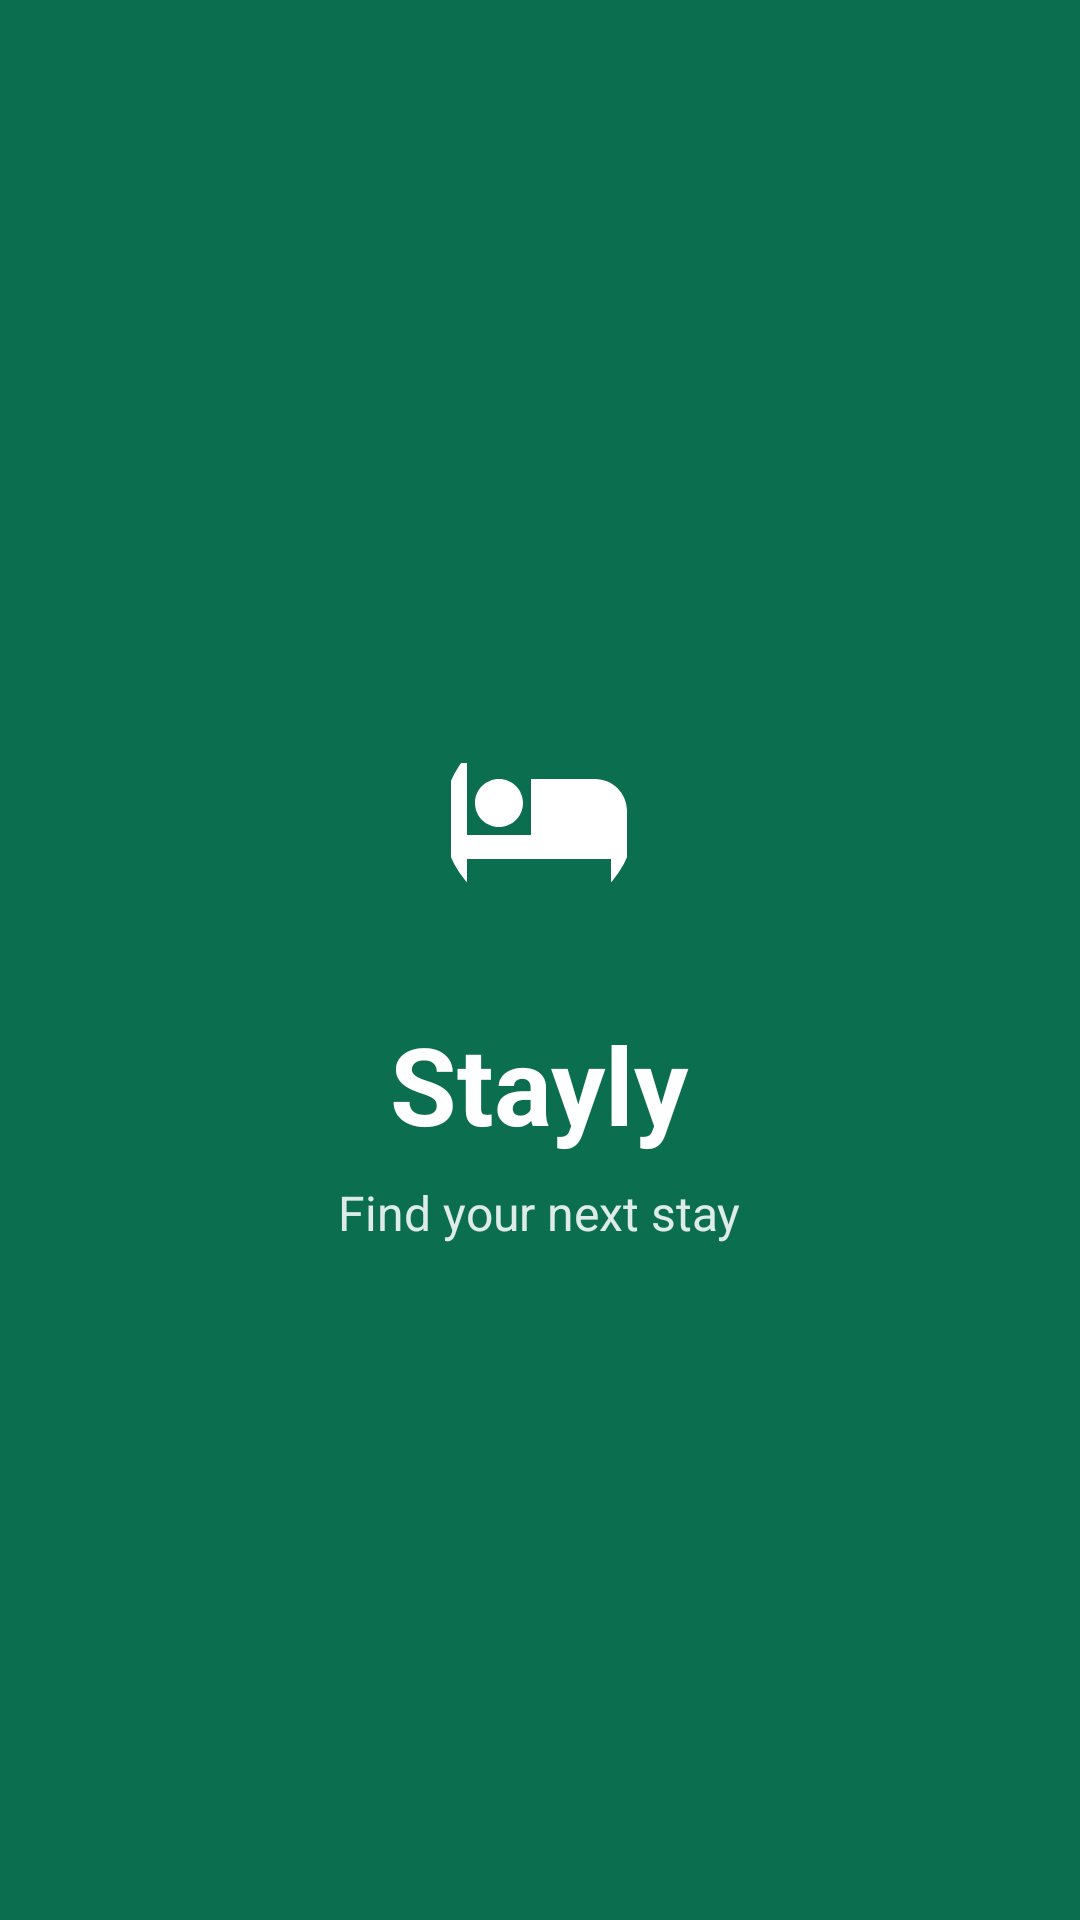

Named icons in this screenshot (1080×1920) and their bounding boxes, (x1, y1, x2, y2):
hotel: (451, 763, 627, 882)
